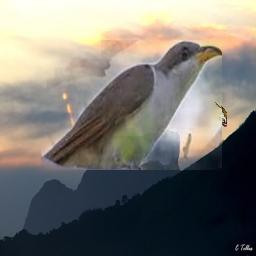Cuckoo: (41, 40, 222, 170)
Woodpecker: (215, 102, 227, 127)
